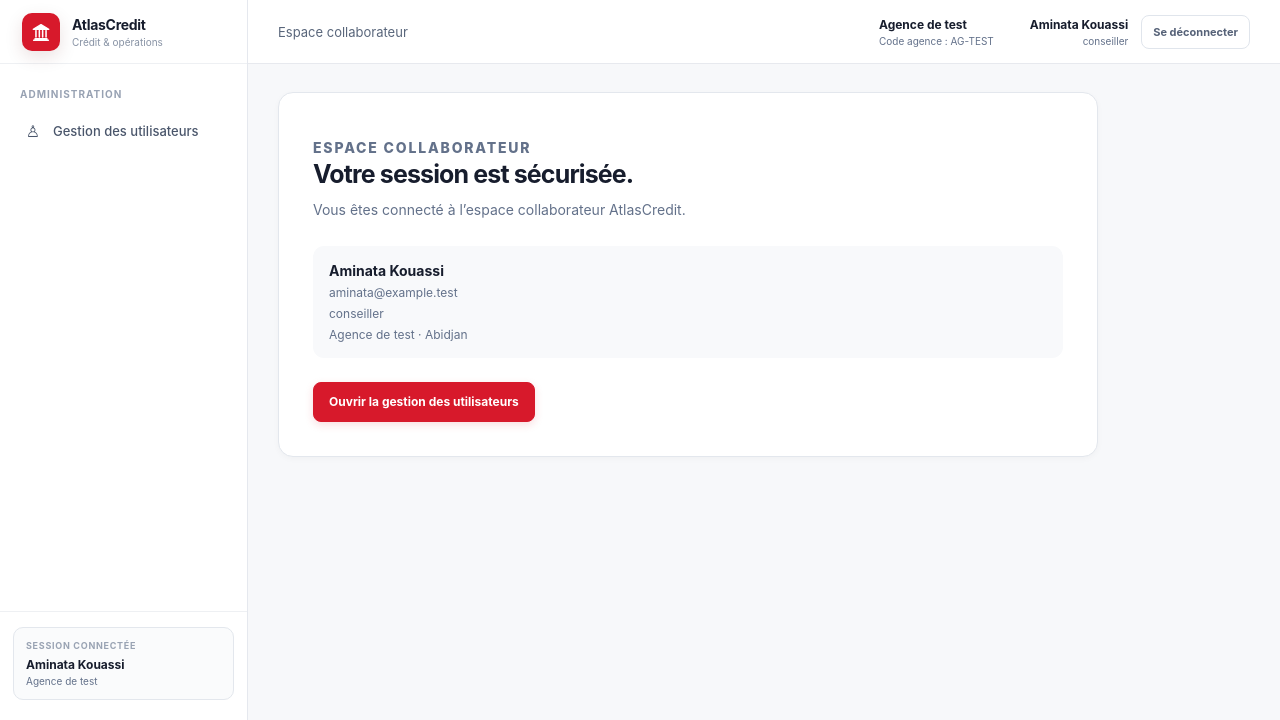
Test case: revokes the token on the backend and clears the local session on logout
Click the button "Se déconnecter".
click(1196, 32)  # box [1141,14,1250,48]
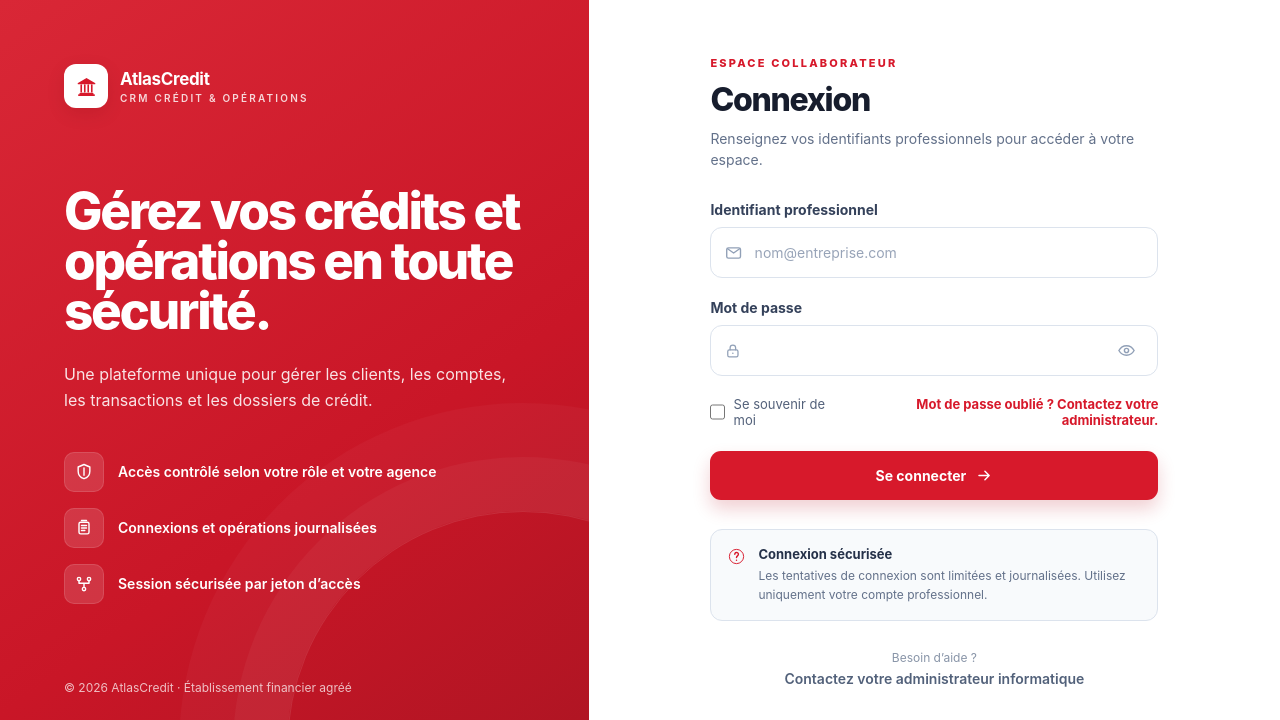
Now the heading "Connexion" is shown, box [710,80,870,119]
